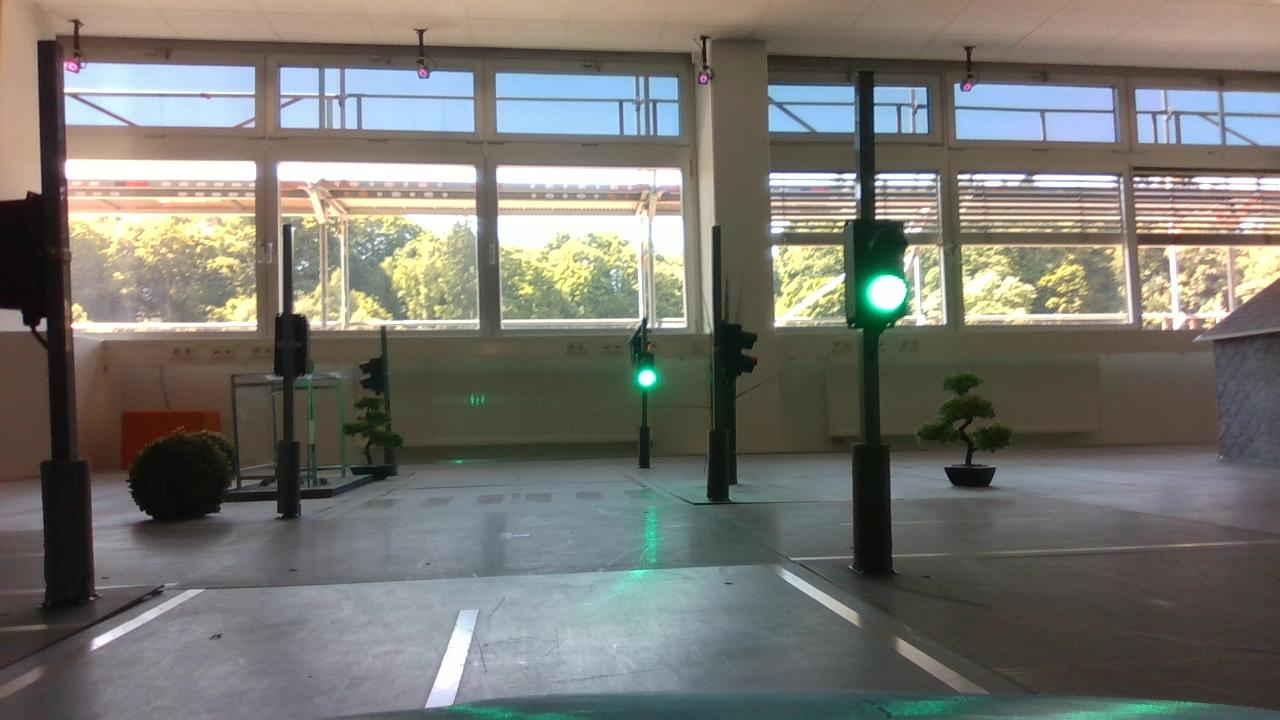traffic_light_green: (834, 207, 915, 336)
